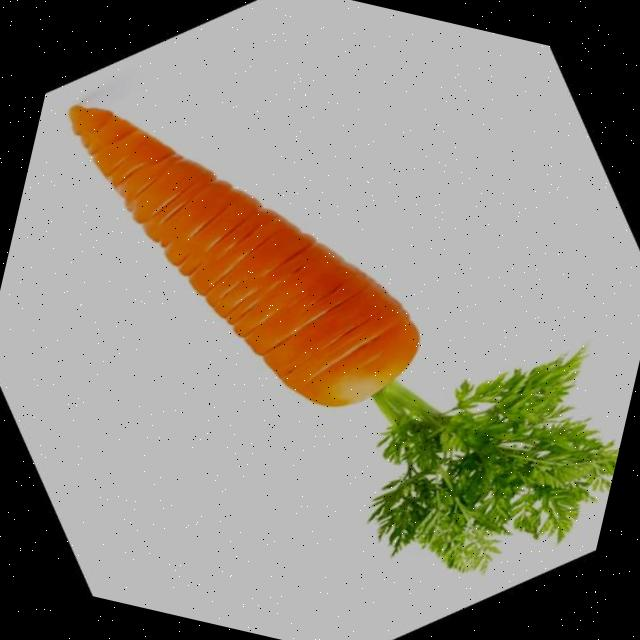carrot: (69, 104, 619, 571)
